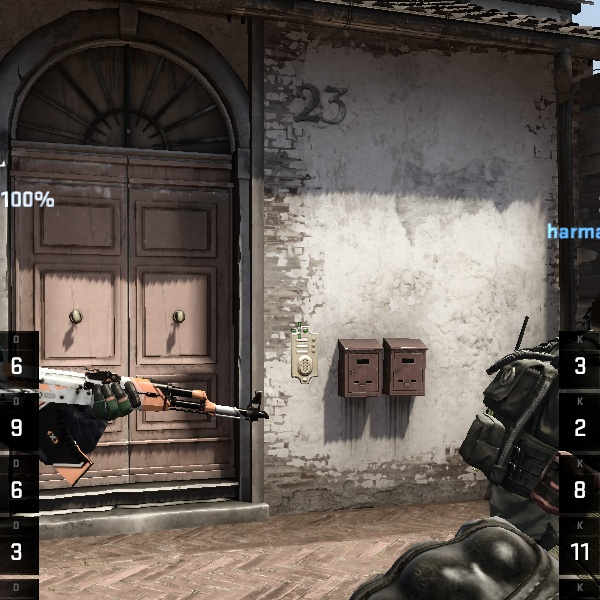ct_body: (442, 275, 597, 600)
ct_head: (550, 288, 600, 388)
